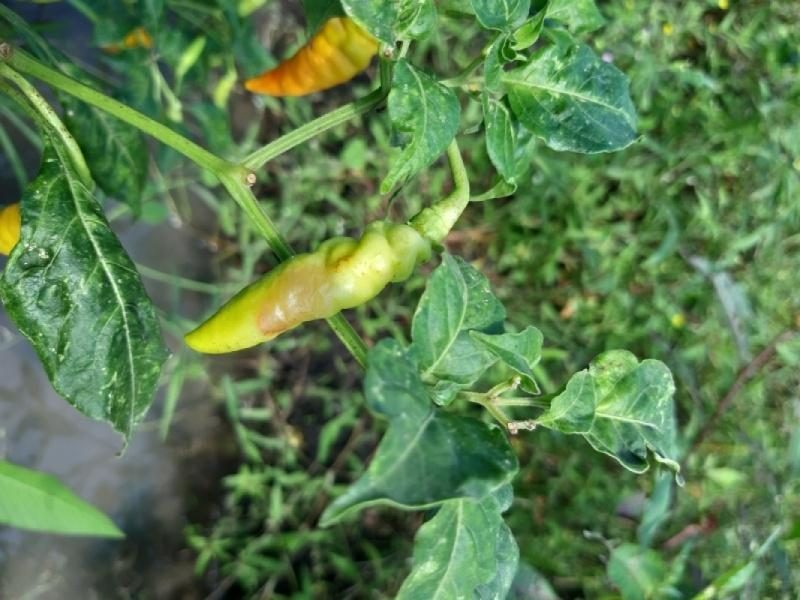antraknosa: (186, 203, 412, 357)
cabai_normal: (236, 18, 374, 98)
